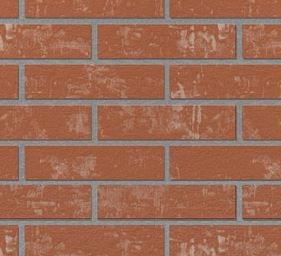brick: (94, 101, 237, 141), (95, 22, 236, 61), (94, 183, 237, 221), (21, 63, 166, 100), (23, 144, 166, 181), (166, 145, 281, 183), (170, 63, 281, 101), (21, 225, 166, 254), (167, 222, 281, 255), (1, 104, 93, 143), (1, 183, 92, 220), (1, 23, 93, 59), (24, 1, 166, 19), (169, 1, 281, 18), (237, 185, 281, 222), (241, 103, 281, 140), (242, 26, 281, 61)
